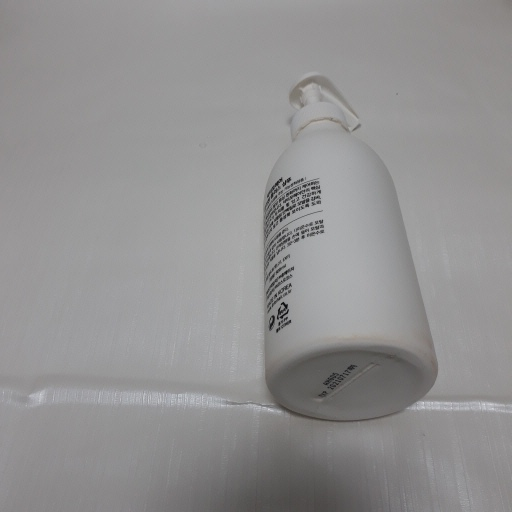Plastic_3: (259, 71, 443, 420)
